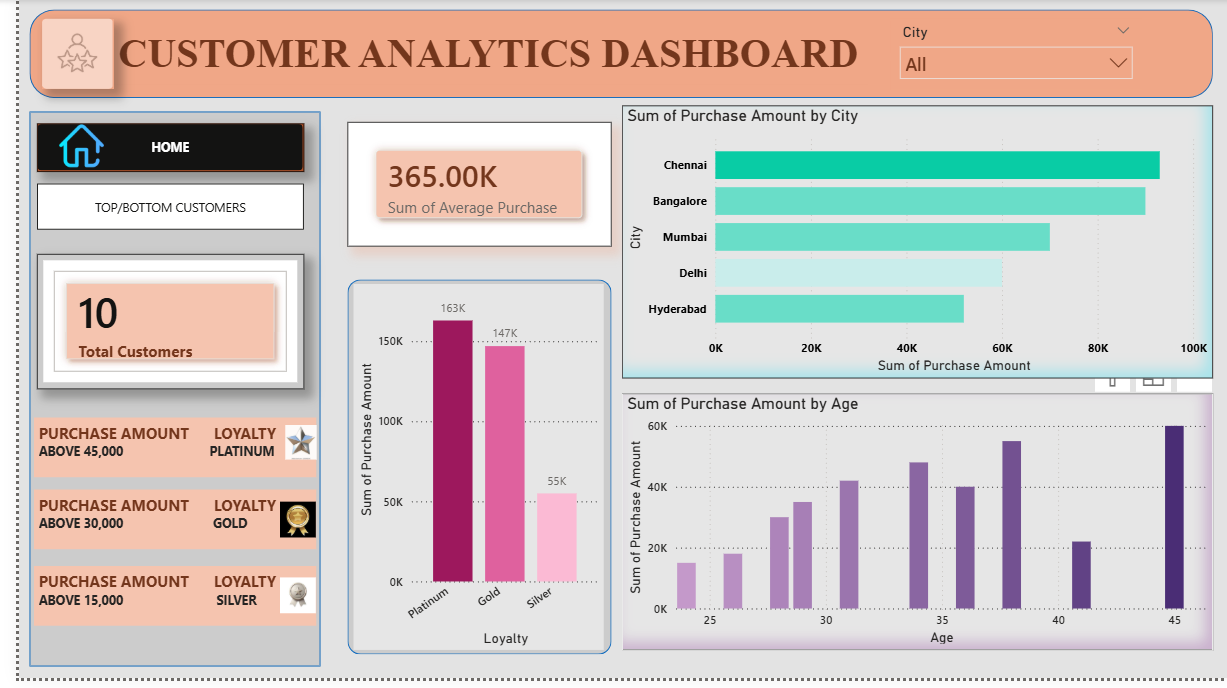

This screenshot's page, from the dashboard's own definition file:
{"tool":"powerbi","page":{"name":"HOME","canvas":[1280,720],"ordinal":0},"visuals":[{"type":"shape","box":[11.1,11.1,1255,93.8],"z":0},{"type":"textbox","box":[100.2,28.6,800.1,62],"z":1000},{"type":"image","box":[23.9,20.7,76.3,74.8],"z":2000},{"type":"slicer","fields":{"Values":["CusomerAnalytics.Loyalty"]},"box":[924.1,20.8,266.5,75.6],"z":3000},{"type":"shape","box":[11.1,119.3,308.6,588.5],"z":4000},{"type":"pageNavigator","box":[18.9,132.3,283.5,51],"z":5000},{"type":"image","box":[0,132.3,132.3,47.2],"z":6000},{"type":"pageNavigator","box":[19.1,195.6,283.1,49.3],"z":7000},{"type":"textbox","box":[15.9,443.8,299,63.6],"z":8000},{"type":"cardVisual","fields":{"Data":["Sheet1.Total Customers"]},"box":[19.1,270.4,283.1,143.2],"z":9000},{"type":"cardVisual","fields":{"Data":["Sum(CusomerAnalytics.Average Purchase)"]},"box":[348.3,130.4,279.9,132],"z":10000},{"type":"image","box":[278.4,451.7,41.4,36.6],"z":11000},{"type":"textbox","box":[15.9,520.1,299,63.6],"z":12000},{"type":"textbox","box":[15.9,601.3,299,63.6],"z":13000},{"type":"image","box":[276.8,529.7,38.2,44.5],"z":14000},{"type":"image","box":[276.8,606,38.2,52.5],"z":15000},{"type":"shape","box":[348.3,297.4,279.9,397.7],"z":16000},{"type":"columnChart","fields":{"Category":["CusomerAnalytics.Loyalty"],"Y":["Sum(CusomerAnalytics.Purchase Amount)"]},"box":[354.7,302.2,265.6,388.1],"z":17000},{"type":"clusteredColumnChart","fields":{"Category":["CusomerAnalytics.Age"],"Y":["Sum(CusomerAnalytics.Purchase Amount)"]},"box":[639.4,418.3,626.7,272],"z":18000},{"type":"barChart","fields":{"Category":["Sheet1.City"],"Y":["Sum(Sheet1.Purchase Amount)"]},"box":[639.4,112.9,626.7,289.5],"z":19000}]}

Visuals, with their boxes in screenshot pixels (x1, y1, x2, y2), scaled from the page's 1280x720 canvas onto the 1227x688 screenshot:
shape: pyautogui.locateOnScreen(11, 11, 1214, 100)
textbox: pyautogui.locateOnScreen(96, 27, 863, 87)
image: pyautogui.locateOnScreen(23, 20, 96, 91)
slicer - CusomerAnalytics.Loyalty: pyautogui.locateOnScreen(886, 20, 1141, 92)
shape: pyautogui.locateOnScreen(11, 114, 306, 676)
pageNavigator: pyautogui.locateOnScreen(18, 126, 290, 175)
image: pyautogui.locateOnScreen(0, 126, 127, 172)
pageNavigator: pyautogui.locateOnScreen(18, 187, 290, 234)
textbox: pyautogui.locateOnScreen(15, 424, 302, 485)
cardVisual - Sheet1.Total Customers: pyautogui.locateOnScreen(18, 258, 290, 395)
cardVisual - Sum(CusomerAnalytics.Average Purchase): pyautogui.locateOnScreen(334, 125, 602, 251)
image: pyautogui.locateOnScreen(267, 432, 307, 467)
textbox: pyautogui.locateOnScreen(15, 497, 302, 558)
textbox: pyautogui.locateOnScreen(15, 575, 302, 635)
image: pyautogui.locateOnScreen(265, 506, 302, 549)
image: pyautogui.locateOnScreen(265, 579, 302, 629)
shape: pyautogui.locateOnScreen(334, 284, 602, 664)
columnChart - CusomerAnalytics.Loyalty x Sum(CusomerAnalytics.Purchase Amount): pyautogui.locateOnScreen(340, 289, 595, 660)
clusteredColumnChart - CusomerAnalytics.Age x Sum(CusomerAnalytics.Purchase Amount): pyautogui.locateOnScreen(613, 400, 1214, 660)
barChart - Sheet1.City x Sum(Sheet1.Purchase Amount): pyautogui.locateOnScreen(613, 108, 1214, 385)
